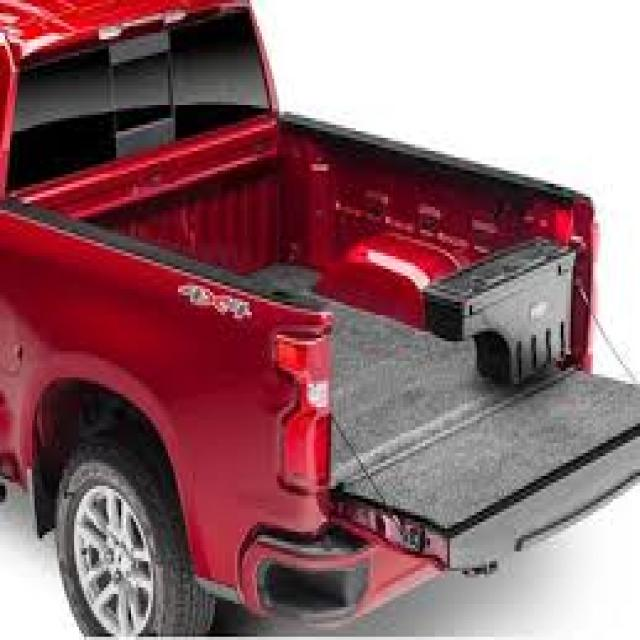car: (0, 0, 640, 635)
